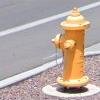a fire hydrant: (56, 5, 86, 89)
